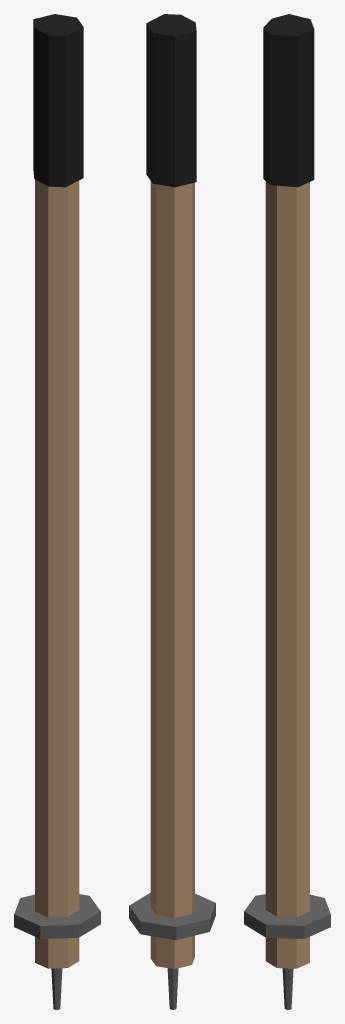
File: skiStickWeapon.fbx
3 renders of one model, left to right at view 1: azimuth 30°, elevation 25°; view 2: azimuth 210°, elevation 25°; view 3: azimuth 330°, elevation 25°, orthographic.
Visible parts, largest first — view 1: SkiStick; view 2: SkiStick; view 3: SkiStick.
Part boxes in pixels (x1,y1,x2,y2): SkiStick: [14, 14, 100, 1009]; SkiStick: [129, 14, 215, 1009]; SkiStick: [244, 14, 330, 1009].
Size of the model in its own units: 7.37 by 91.73 by 7.11.
